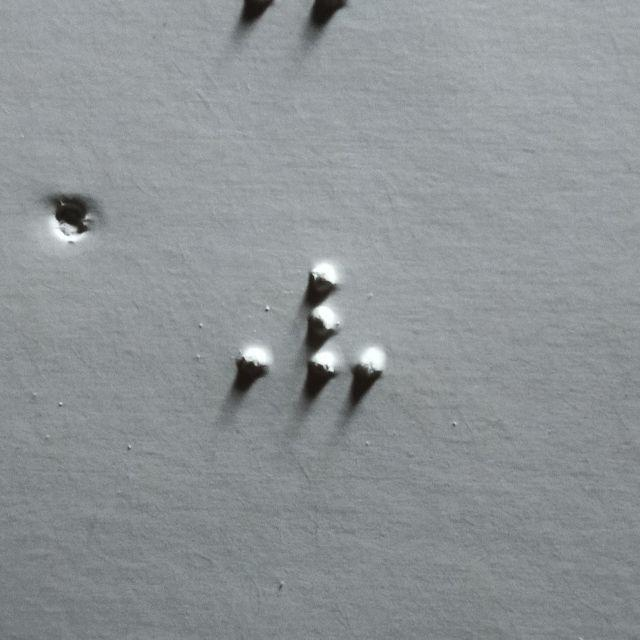V: (309, 257, 389, 383)
capital: (195, 254, 275, 379)
